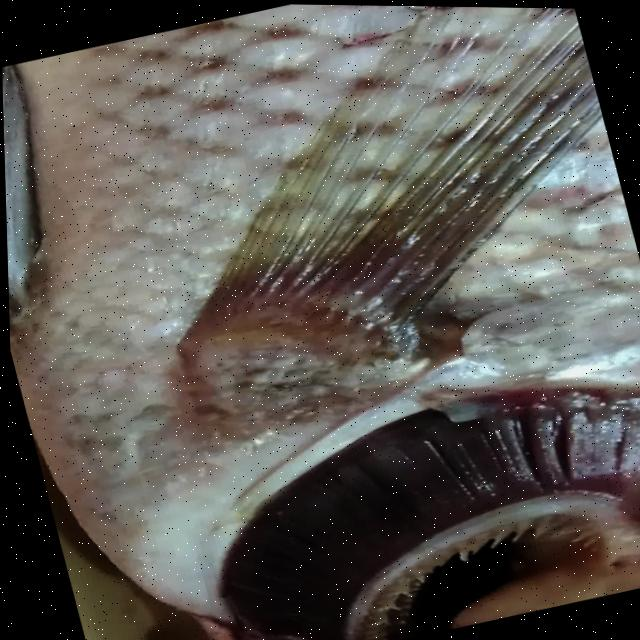Non-Fresh: (165, 358, 640, 640)
